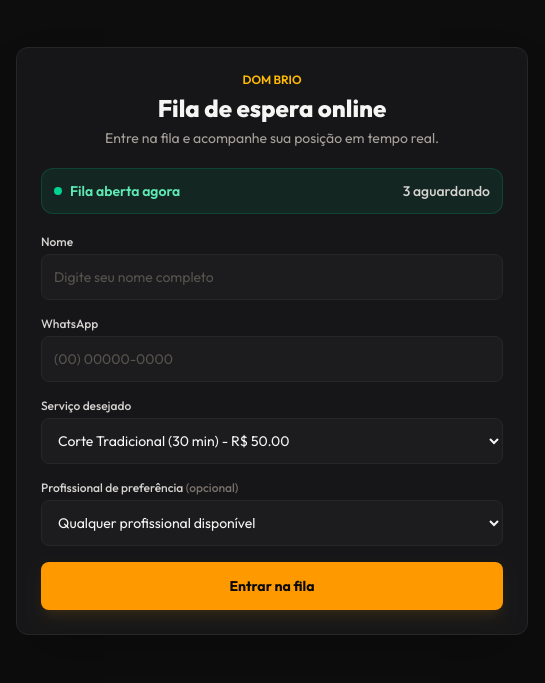
Scenario: PR #20 - tela pública da fila online › 4. formulário exige WhatsApp
Expected: the text "Fila aberta agora" is shown, 70,181 -> 180,201
Type "Rafael Silva" into the field labelled "Nome" at (272, 277), box 41,254 -> 503,300
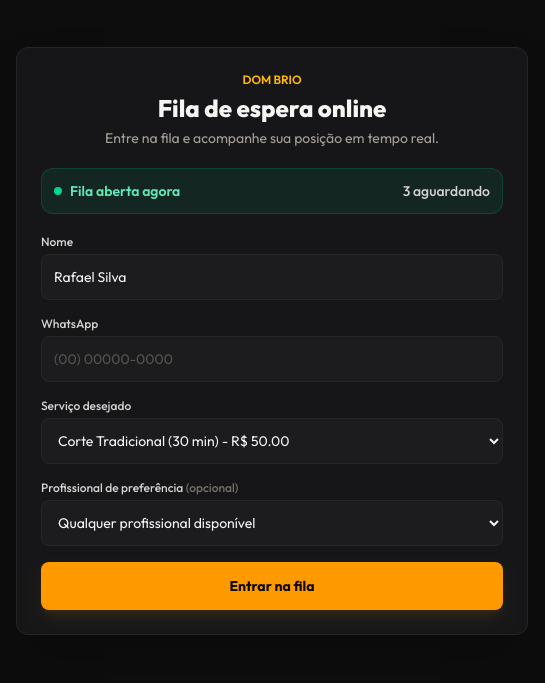
Click the button "Entrar na fila" at (272, 586), box 41,562 -> 503,610
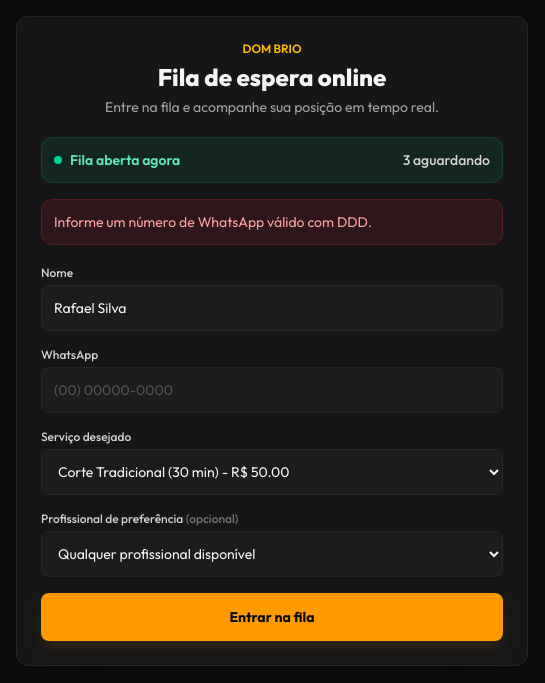
Expected: the text "Informe um número de WhatsApp válido com DDD." is shown, 41,199 -> 503,245
